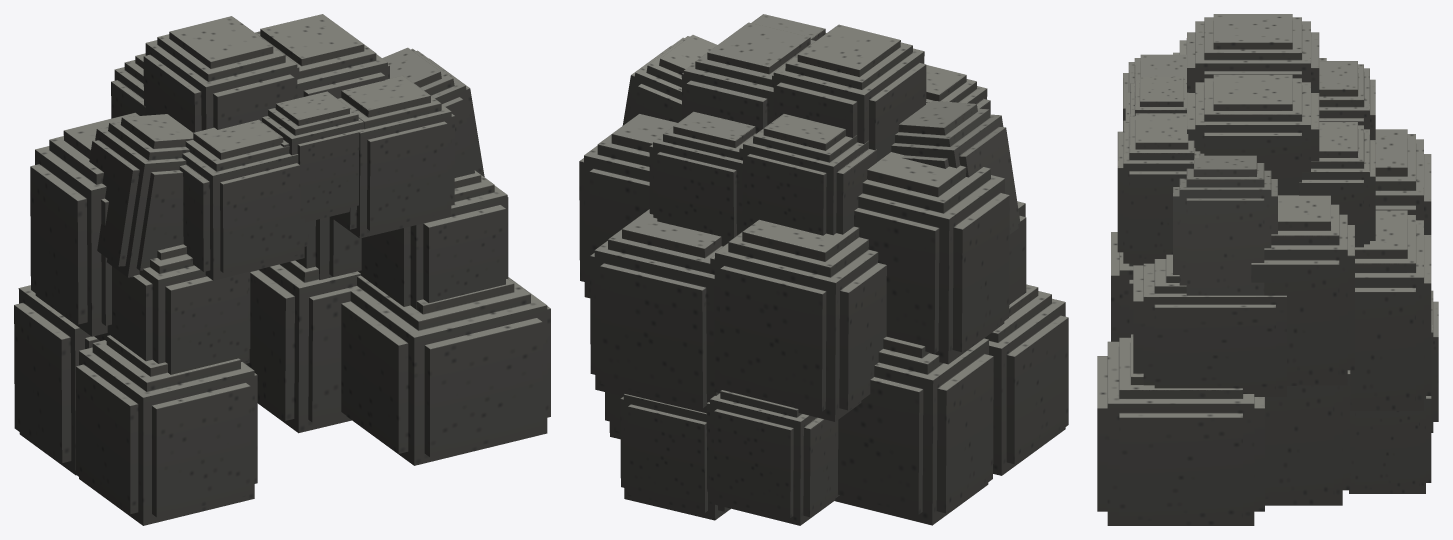
File: Goa.fbx
The picture shows the model from 3 angles, left to right: view 1: azimuth 30°, elevation 25°; view 2: azimuth 150°, elevation 25°; view 3: azimuth 270°, elevation 25°; orthographic projection. The views are drawn at different scales.
Parts seen in each view (by area): view 1: Goa; view 2: Goa; view 3: Goa.
Part boxes in pixels (x1=…): Goa: x1=14, y1=14, x2=550, y2=525; Goa: x1=579, y1=14, x2=1068, y2=525; Goa: x1=1097, y1=14, x2=1438, y2=525.
Size of the model in its own units: 738 by 716 by 551.
Materials: 1 (1 with a texture image).
